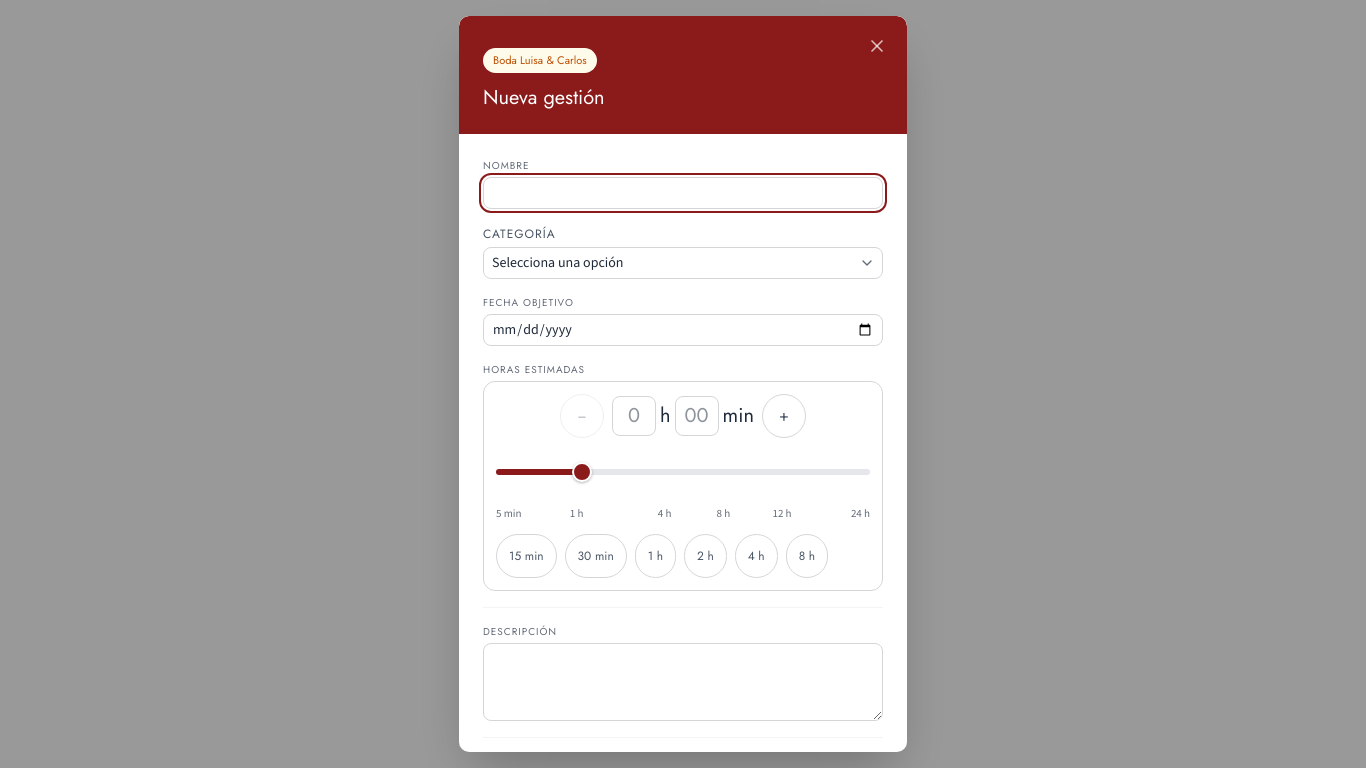
Test: SubtaskFormModal › crear una gestión que supera el límite diario abre el wizard de conflicto en vez de mandar el POST (C3)
Check: the dropdown labelled "Categoría" is enabled, box x1=483 y1=246 x2=883 y2=278
Step 1. Type "Confirmar catering" into the field labelled "Nombre" → (683, 192), box x1=483 y1=176 x2=883 y2=208
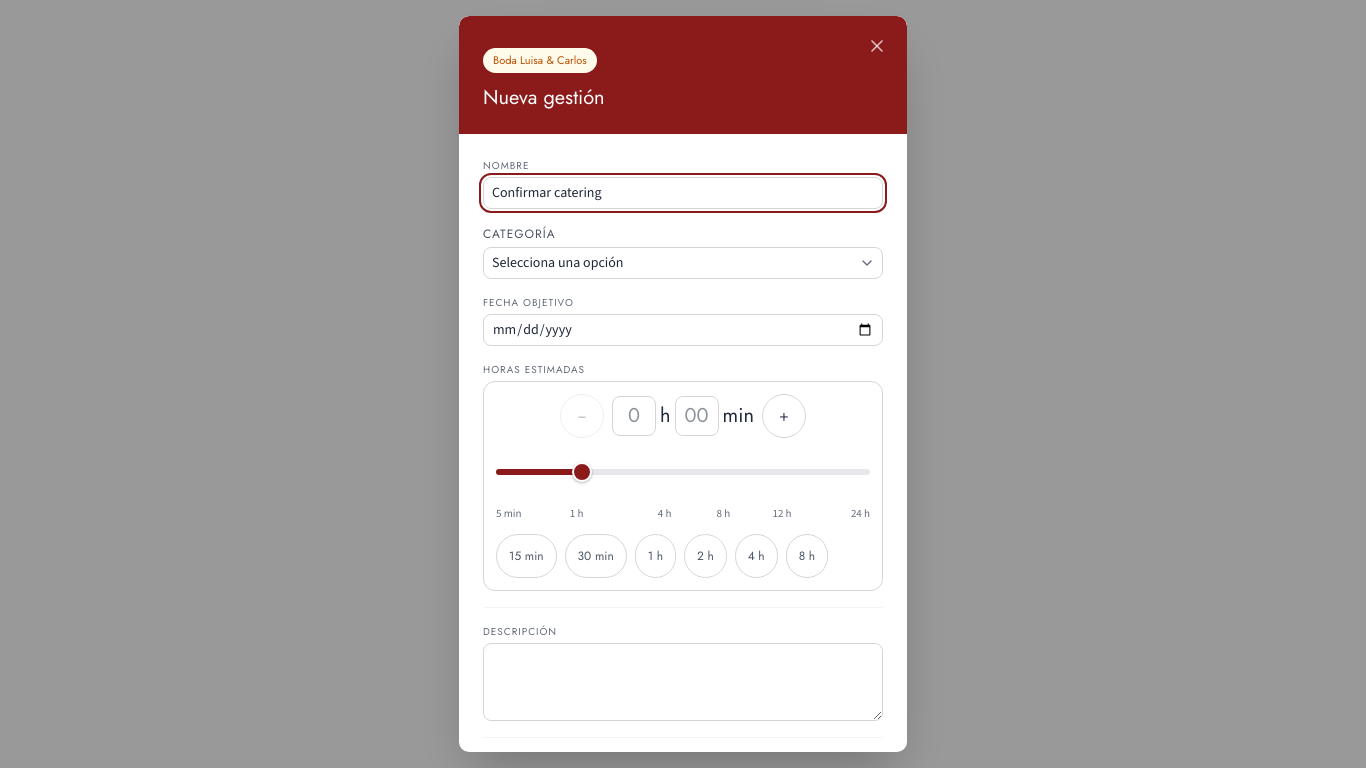
Step 2. Select "Catering" in the dropdown labelled "Categoría" → (683, 262), box x1=483 y1=246 x2=883 y2=278
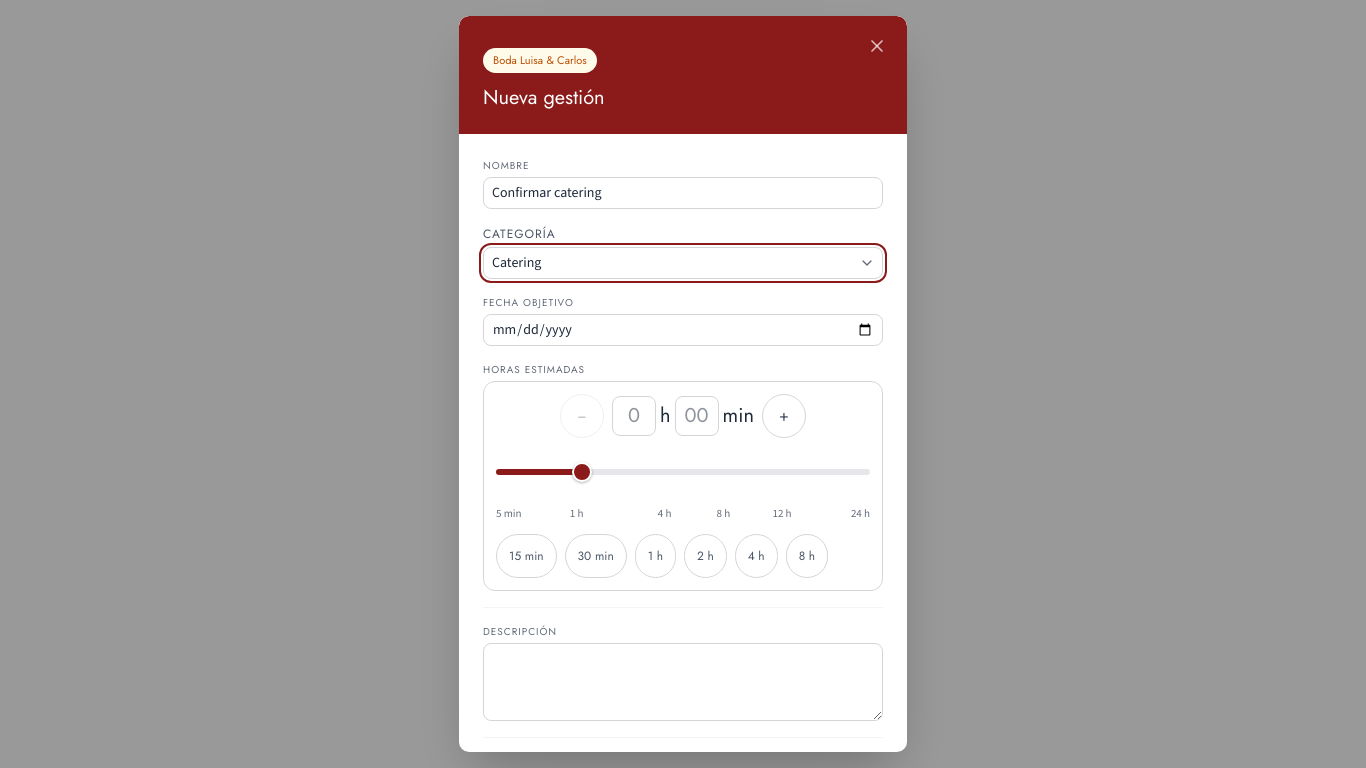
Step 3. Type "2026-10-01" into the date field labelled "Fecha objetivo" → (683, 330), box x1=483 y1=314 x2=883 y2=346
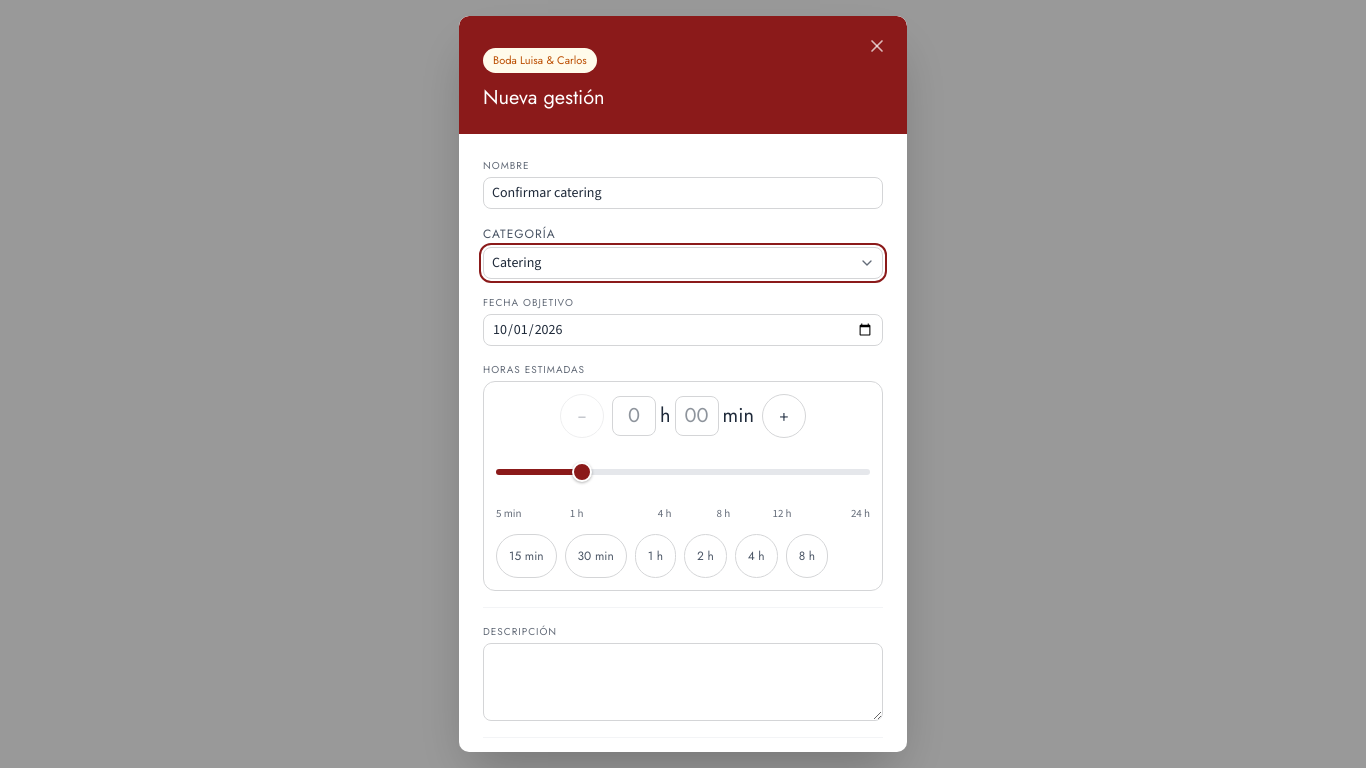
Step 4. Click the button "2 h" → (705, 556), box x1=684 y1=534 x2=727 y2=578
(page scrolled)
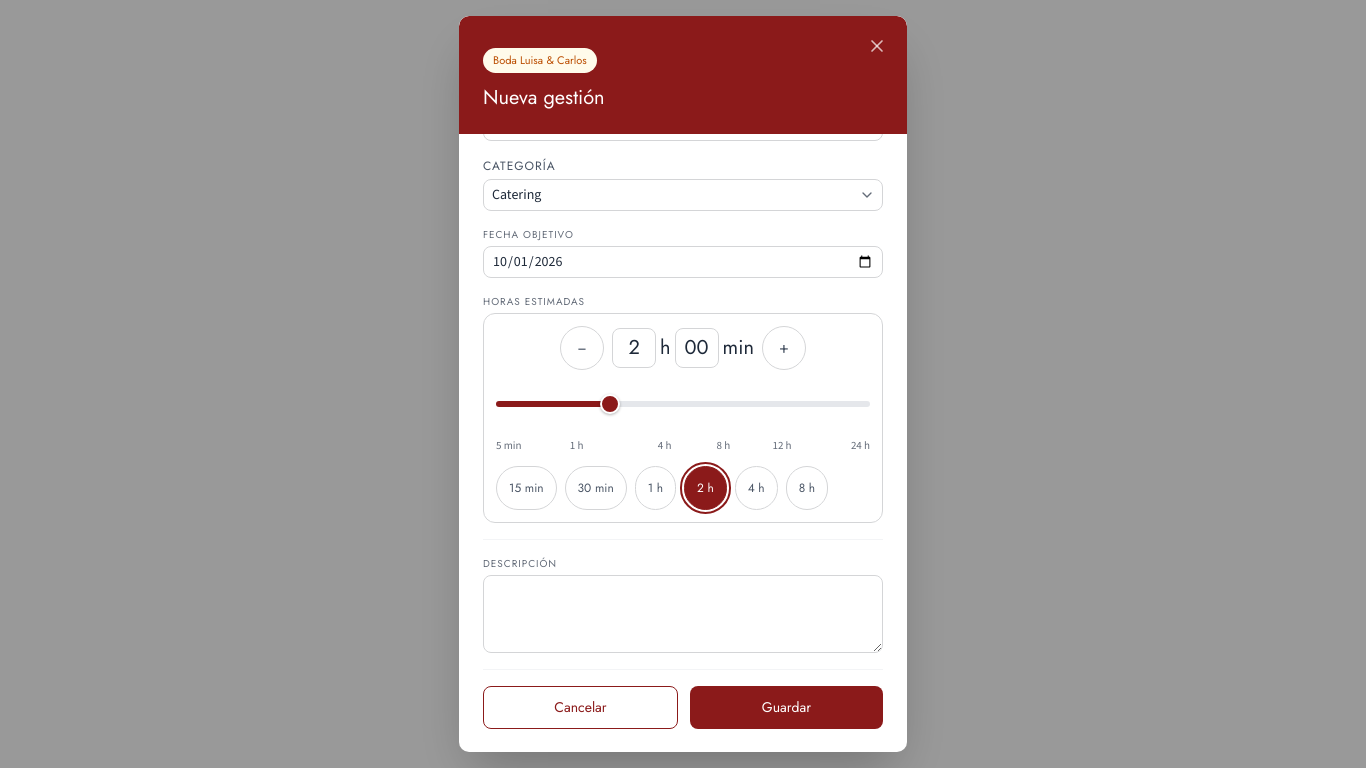
Step 5. Click the button "Guardar" → (786, 707), box x1=690 y1=686 x2=883 y2=729
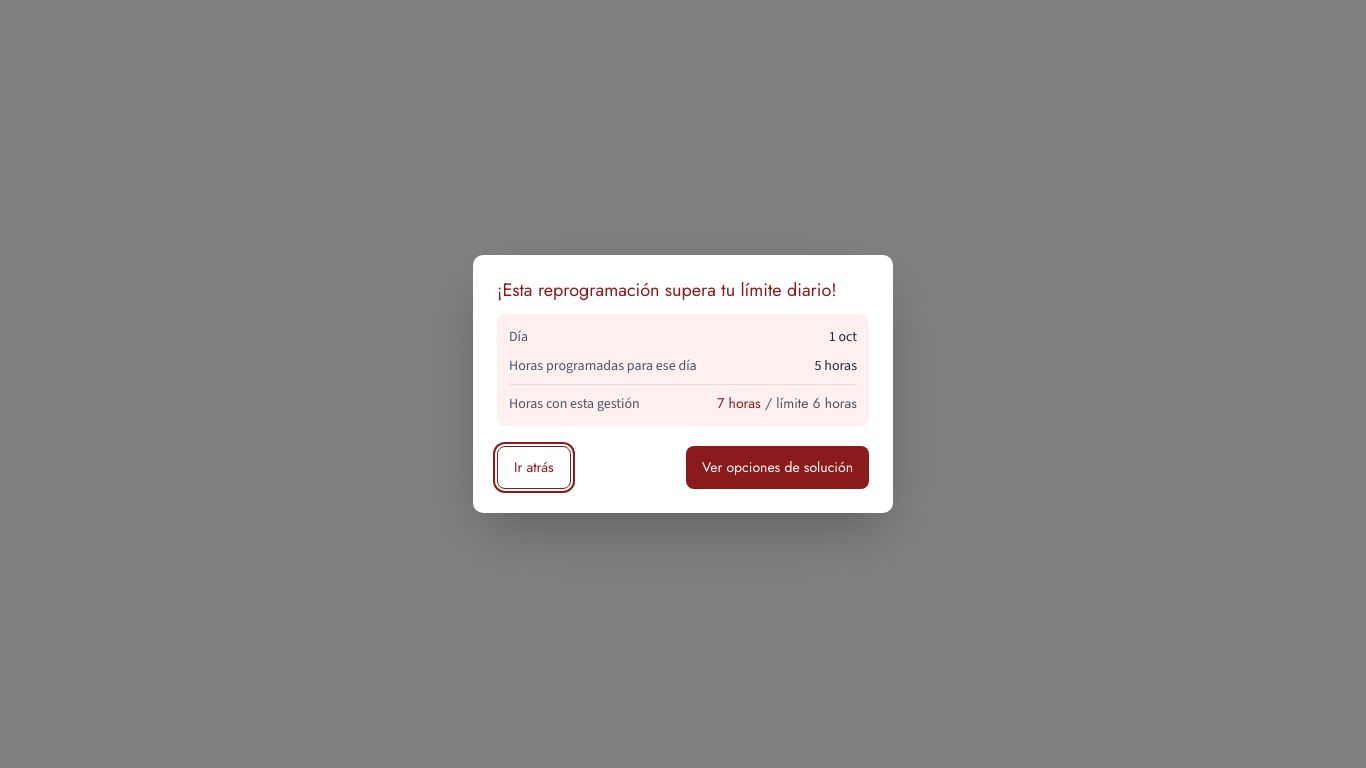
Check: the heading "¡Esta reprogramación supera tu límite diario!" is shown, box x1=497 y1=279 x2=869 y2=302
